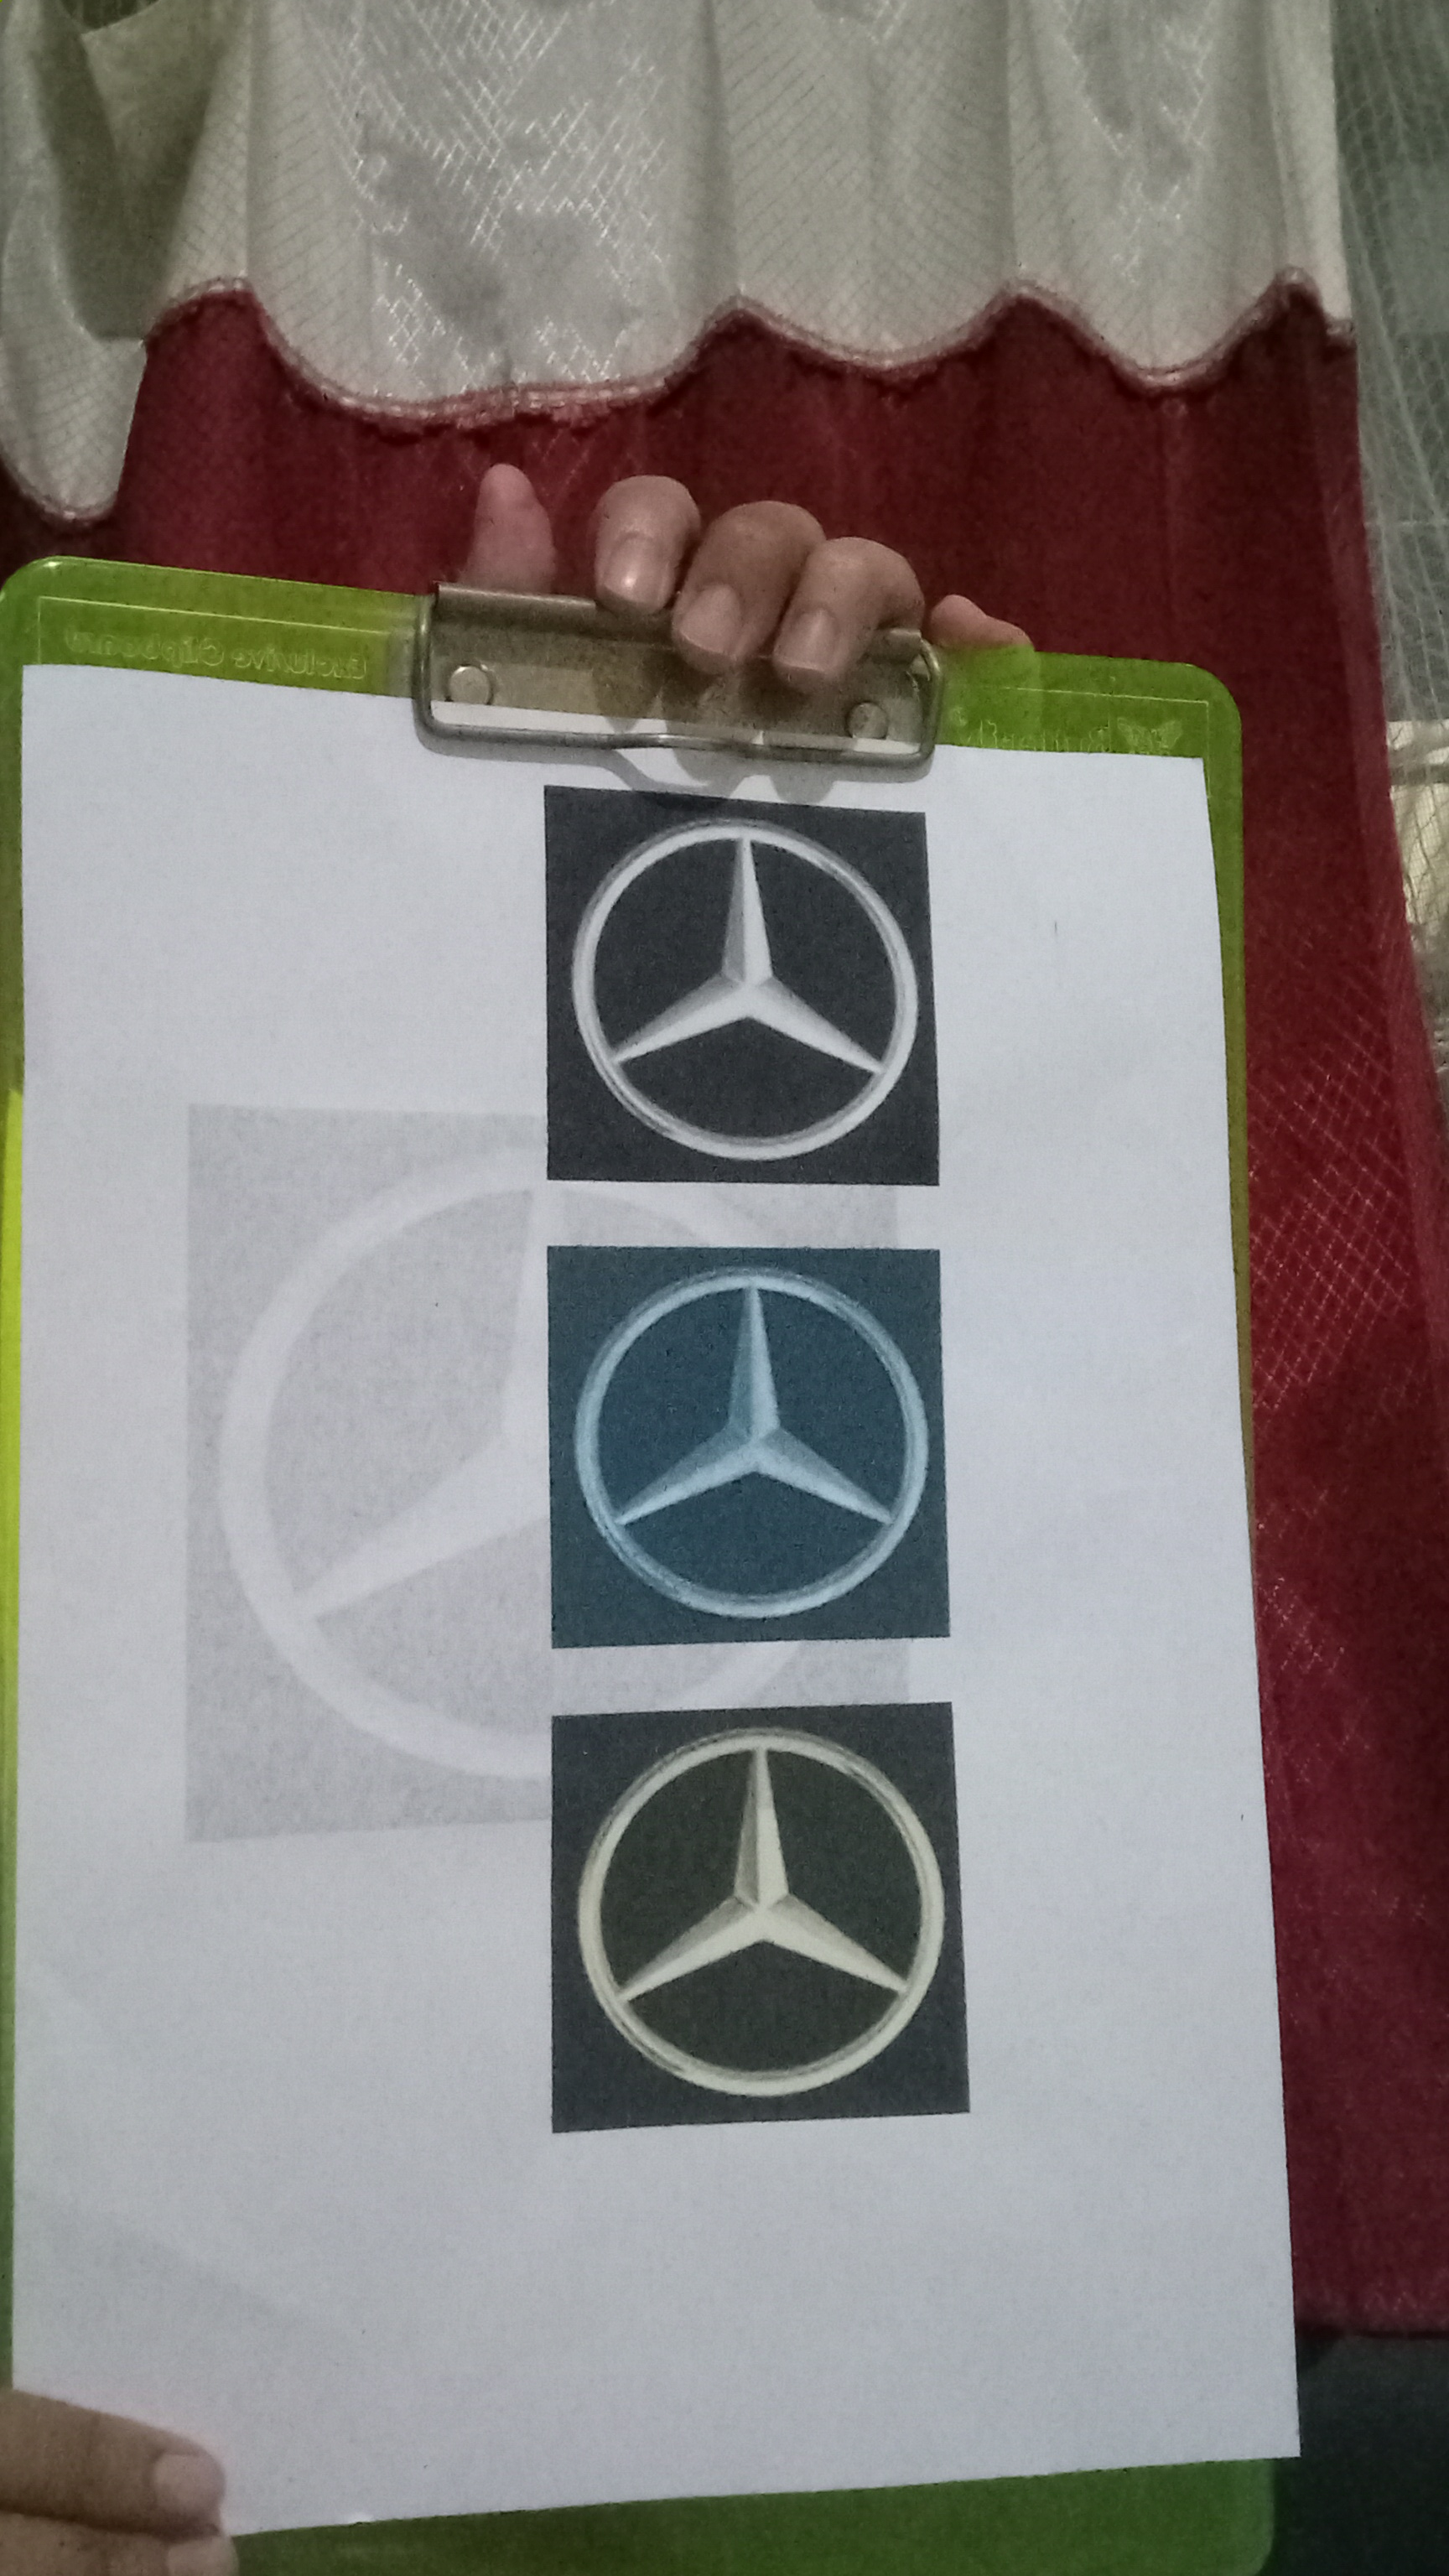Mercedes: (564, 1714, 948, 2104), (561, 1254, 936, 1631), (561, 807, 932, 1175)
